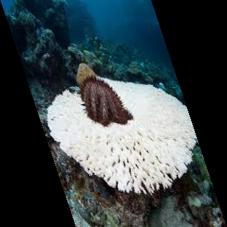bleached_corals: (38, 71, 203, 199)
